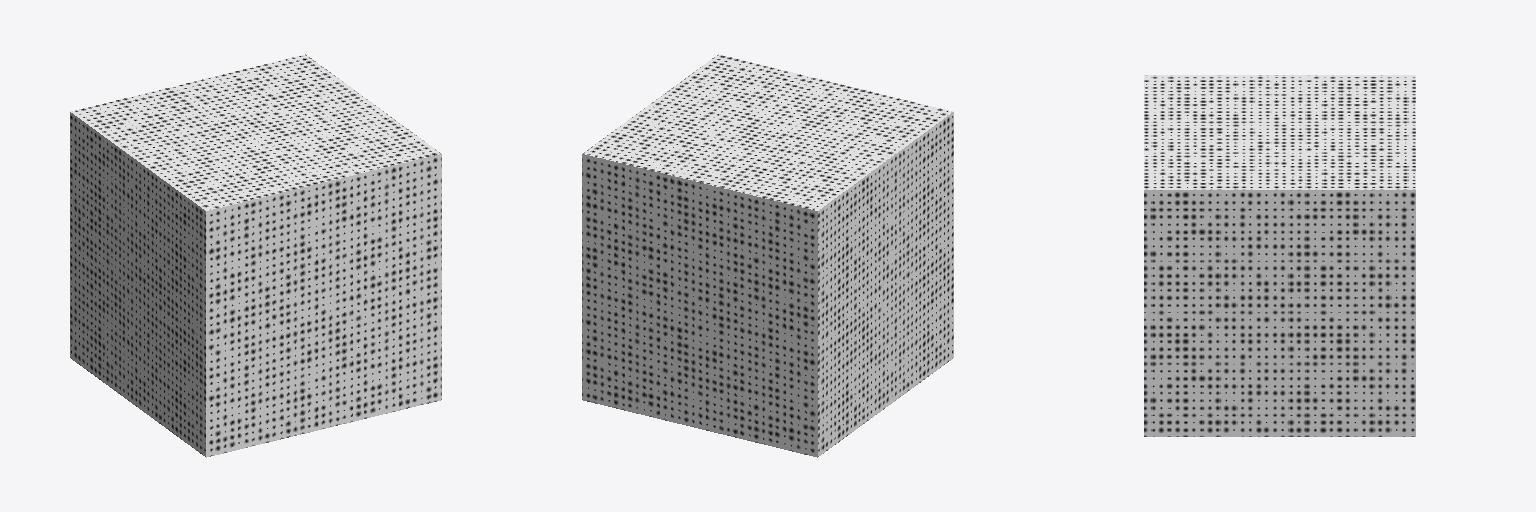
3 renders of one model, left to right at view 1: azimuth 30°, elevation 25°; view 2: azimuth 150°, elevation 25°; view 3: azimuth 270°, elevation 25°, orthographic.
Visible parts, largest first — view 1: pCube1; view 2: pCube1; view 3: pCube1.
Boxes of the visible parts, box(x1,y1,x2,y2) form: pCube1: box(70, 54, 441, 457); pCube1: box(582, 54, 953, 457); pCube1: box(1144, 75, 1415, 436).
Size of the model in its own units: 3.93 by 3.93 by 3.93.
1 materials, 1 textured.